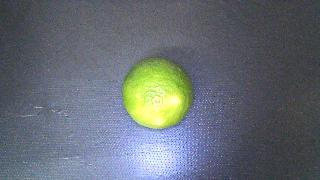EXPORTACION: (122, 58, 193, 129)
